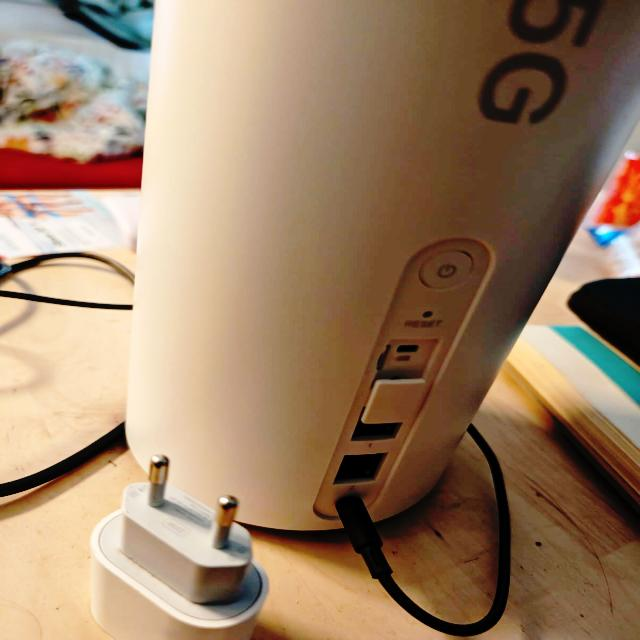lan: (335, 453, 387, 487)
modem: (124, 0, 640, 532)
onbutton: (419, 251, 480, 291)
powcab: (334, 495, 594, 639)
siminside: (372, 338, 391, 374)
